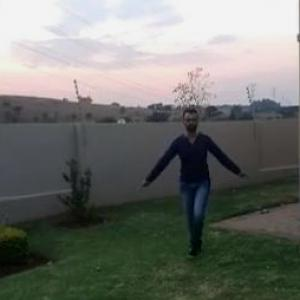land: (130, 100, 250, 254)
